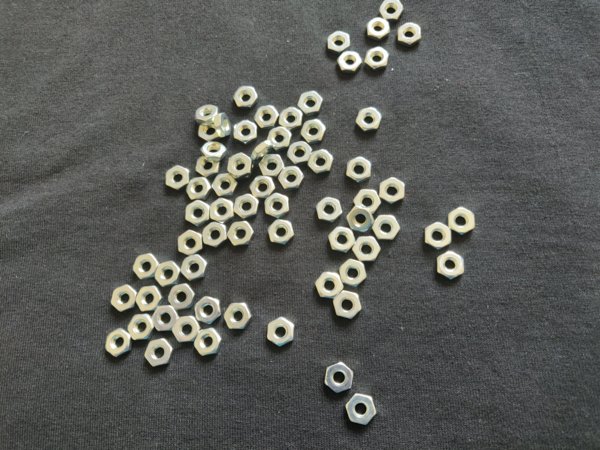nut: (346, 394, 377, 425), (325, 362, 354, 394), (145, 338, 173, 367), (195, 296, 223, 325), (339, 259, 368, 287), (268, 317, 295, 347), (223, 303, 253, 330), (315, 272, 345, 299), (334, 291, 362, 319), (437, 252, 465, 280), (448, 207, 476, 235), (168, 284, 197, 311), (127, 315, 155, 342), (194, 329, 222, 356), (347, 207, 375, 234), (105, 328, 131, 357), (329, 226, 356, 253), (268, 219, 295, 246), (172, 317, 200, 343), (155, 261, 181, 289), (426, 222, 452, 250), (227, 221, 255, 247), (135, 287, 164, 312), (352, 237, 381, 262), (372, 215, 401, 240), (152, 306, 179, 332), (111, 285, 137, 312), (181, 255, 208, 281), (346, 156, 372, 183), (354, 189, 382, 214), (202, 222, 228, 248), (227, 153, 253, 179), (134, 253, 159, 280), (380, 177, 405, 204), (355, 107, 383, 131), (317, 197, 343, 222), (178, 230, 203, 256), (265, 193, 291, 218), (209, 198, 234, 224), (234, 194, 259, 220), (186, 200, 210, 227), (308, 150, 334, 174), (254, 105, 280, 129), (212, 174, 239, 197), (301, 119, 326, 143), (279, 107, 304, 131), (365, 46, 390, 70), (279, 166, 305, 189), (249, 176, 276, 198), (268, 127, 292, 151), (398, 22, 422, 46), (166, 166, 189, 191), (287, 142, 312, 165), (298, 92, 323, 115), (186, 177, 212, 199), (259, 155, 285, 177), (196, 156, 221, 178), (200, 143, 228, 162), (234, 121, 257, 144), (252, 141, 274, 165), (337, 51, 362, 72), (367, 18, 390, 40), (234, 86, 258, 107), (196, 105, 221, 125), (328, 31, 350, 53), (379, 0, 403, 20), (214, 113, 231, 137), (199, 124, 219, 142)
